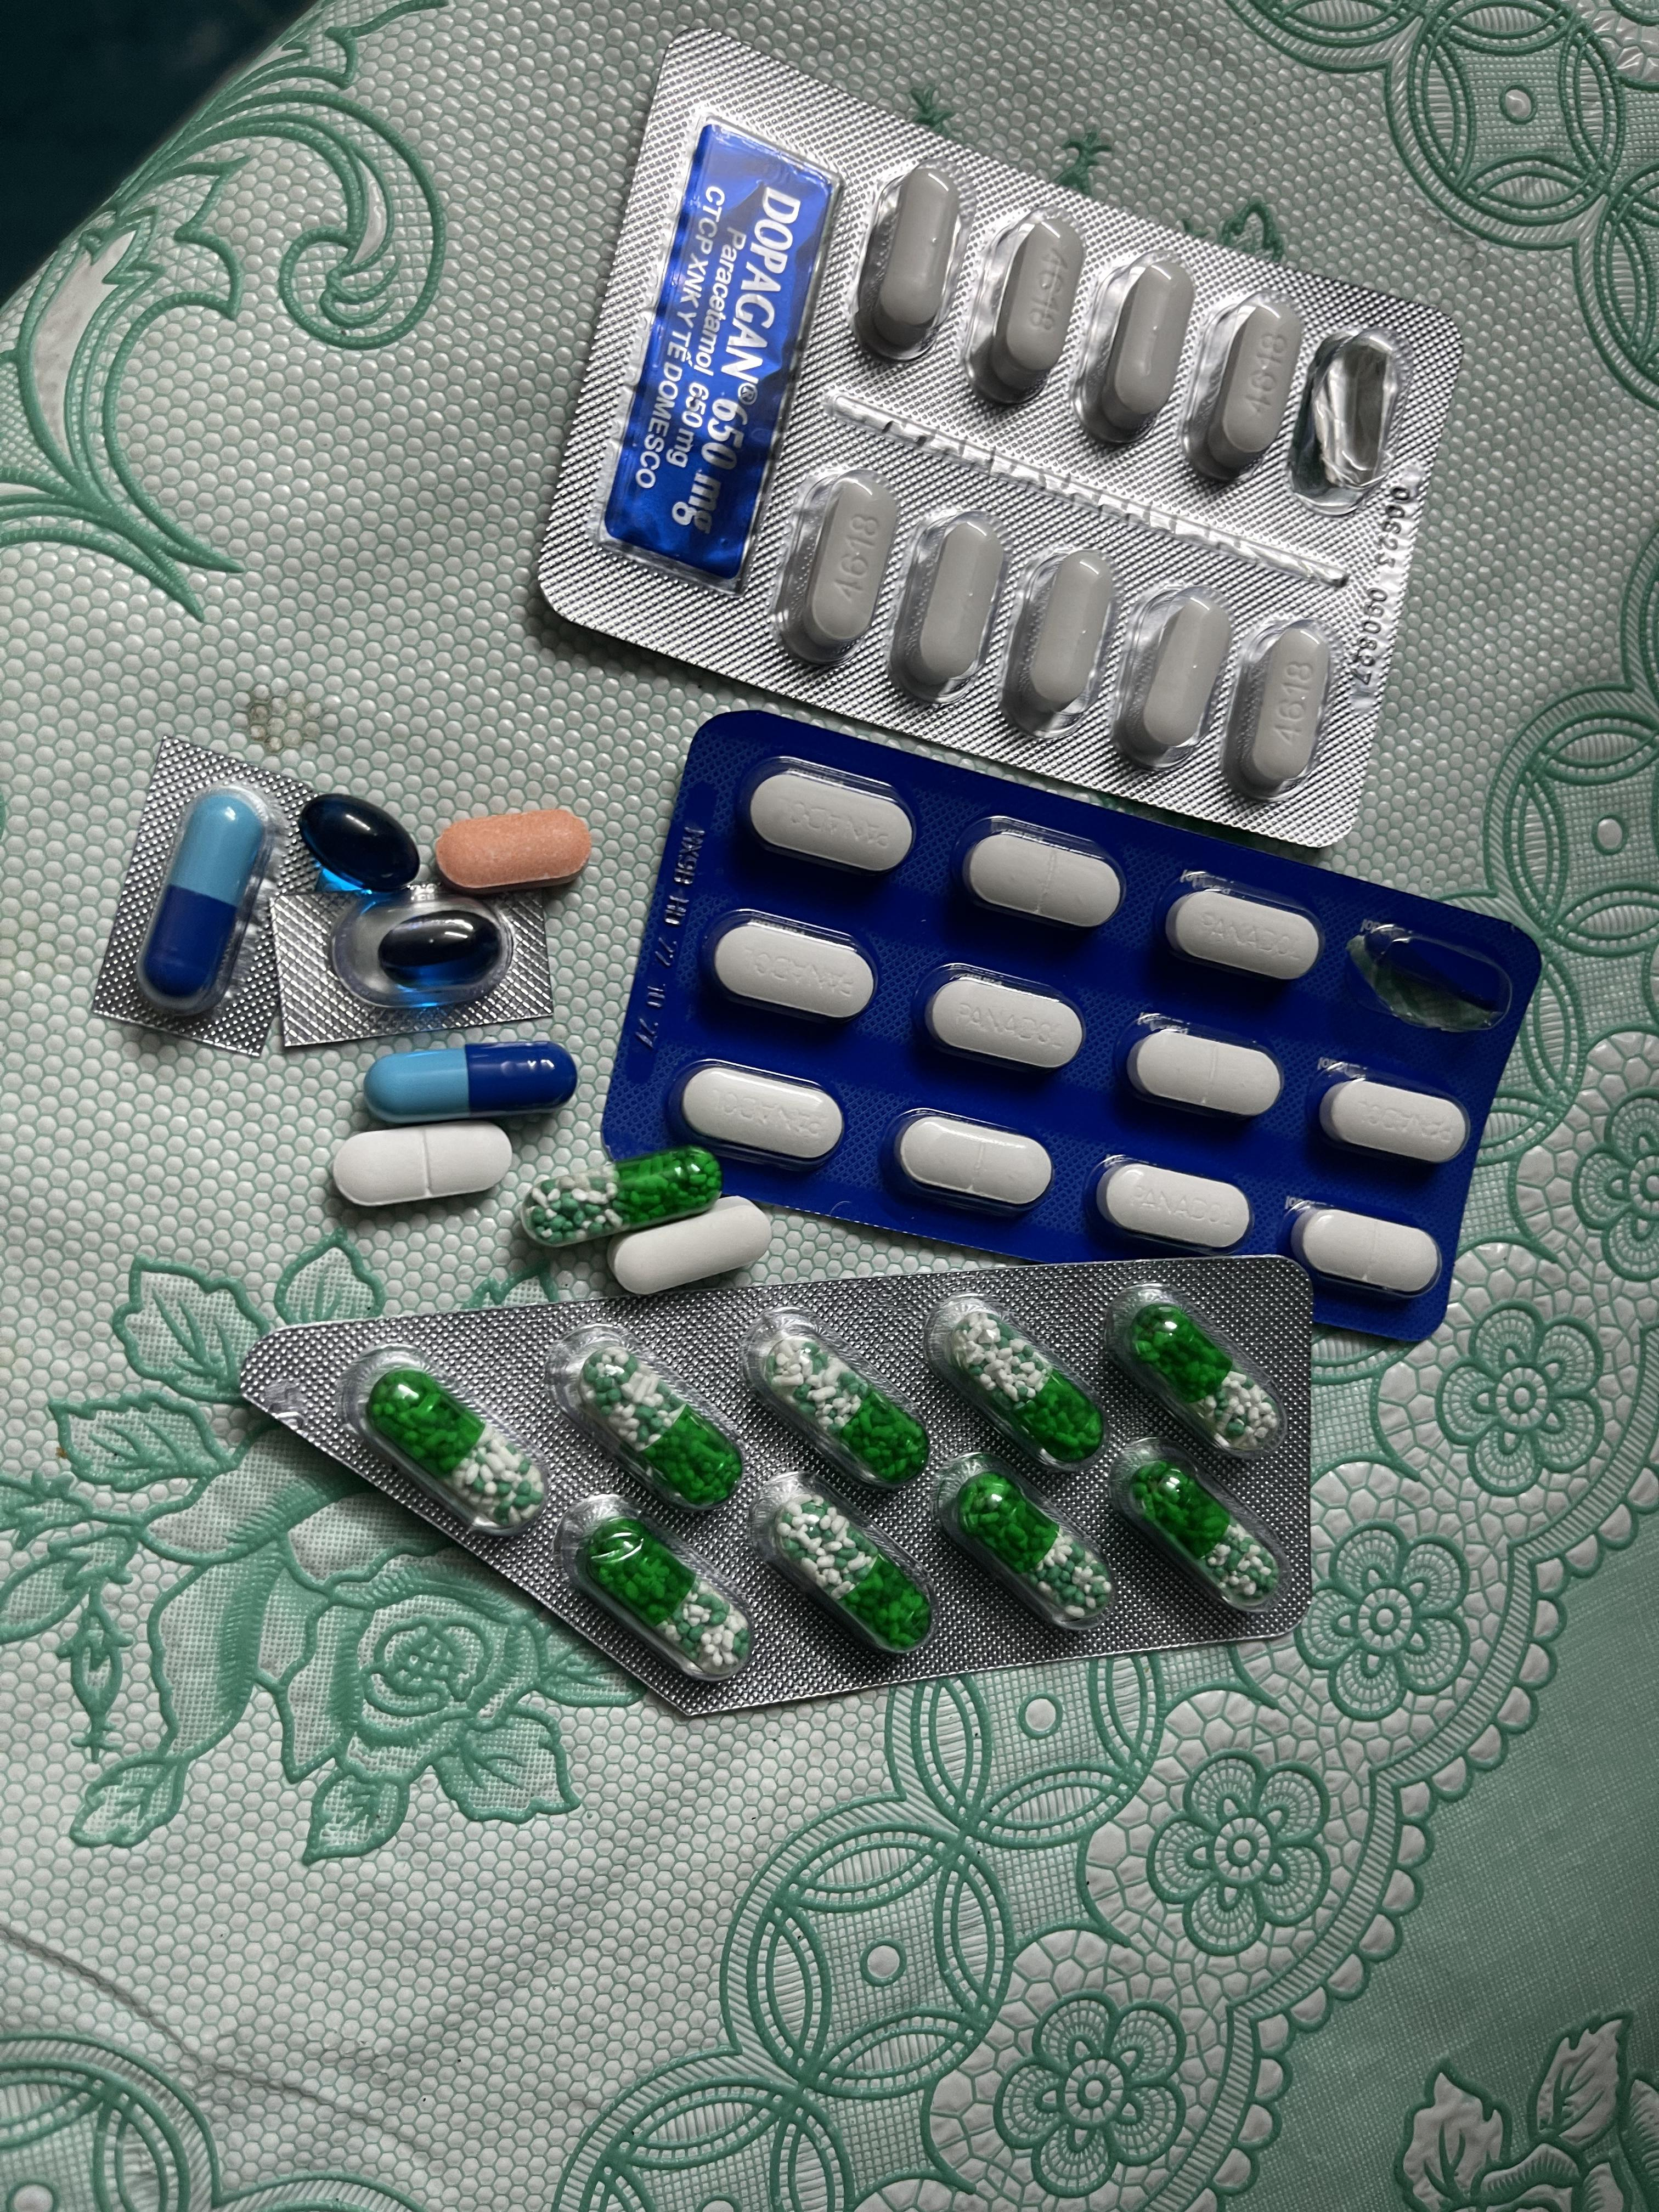Lincomyxin_500mg: (296, 792, 425, 895), (373, 909, 504, 982)
Loratadine_10mg: (434, 808, 592, 895)
Paracetamol_350mg: (957, 815, 1124, 932), (701, 911, 868, 1026), (889, 1109, 1054, 1219), (749, 770, 911, 878), (922, 967, 1086, 1073), (676, 1062, 836, 1167), (1126, 1022, 1286, 1122), (1093, 1157, 1251, 1254), (333, 1120, 512, 1205), (1291, 1197, 1448, 1291), (1169, 890, 1317, 986), (1316, 1071, 1469, 1163)
Paracetamol_500mg: (962, 206, 1089, 411), (1178, 289, 1304, 486), (1072, 251, 1194, 449), (885, 507, 1009, 702), (777, 470, 897, 669), (999, 545, 1121, 735), (1108, 580, 1232, 766), (852, 164, 967, 364), (1223, 618, 1333, 794), (615, 1200, 774, 1292)
Paracetamol_650mg: (936, 1444, 1126, 1630), (371, 1369, 547, 1524), (579, 1350, 744, 1503), (770, 1494, 925, 1651), (586, 1519, 748, 1669), (763, 1334, 924, 1482), (950, 1313, 1107, 1458), (1122, 1308, 1279, 1449), (1122, 1460, 1274, 1602), (521, 1146, 721, 1242)
pill: (134, 786, 277, 1015), (366, 1043, 573, 1122)
